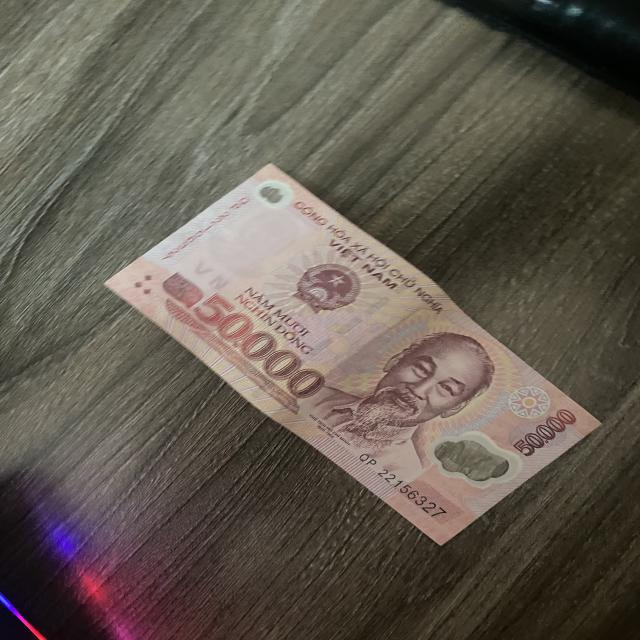50 000 VND: (102, 159, 602, 548)
